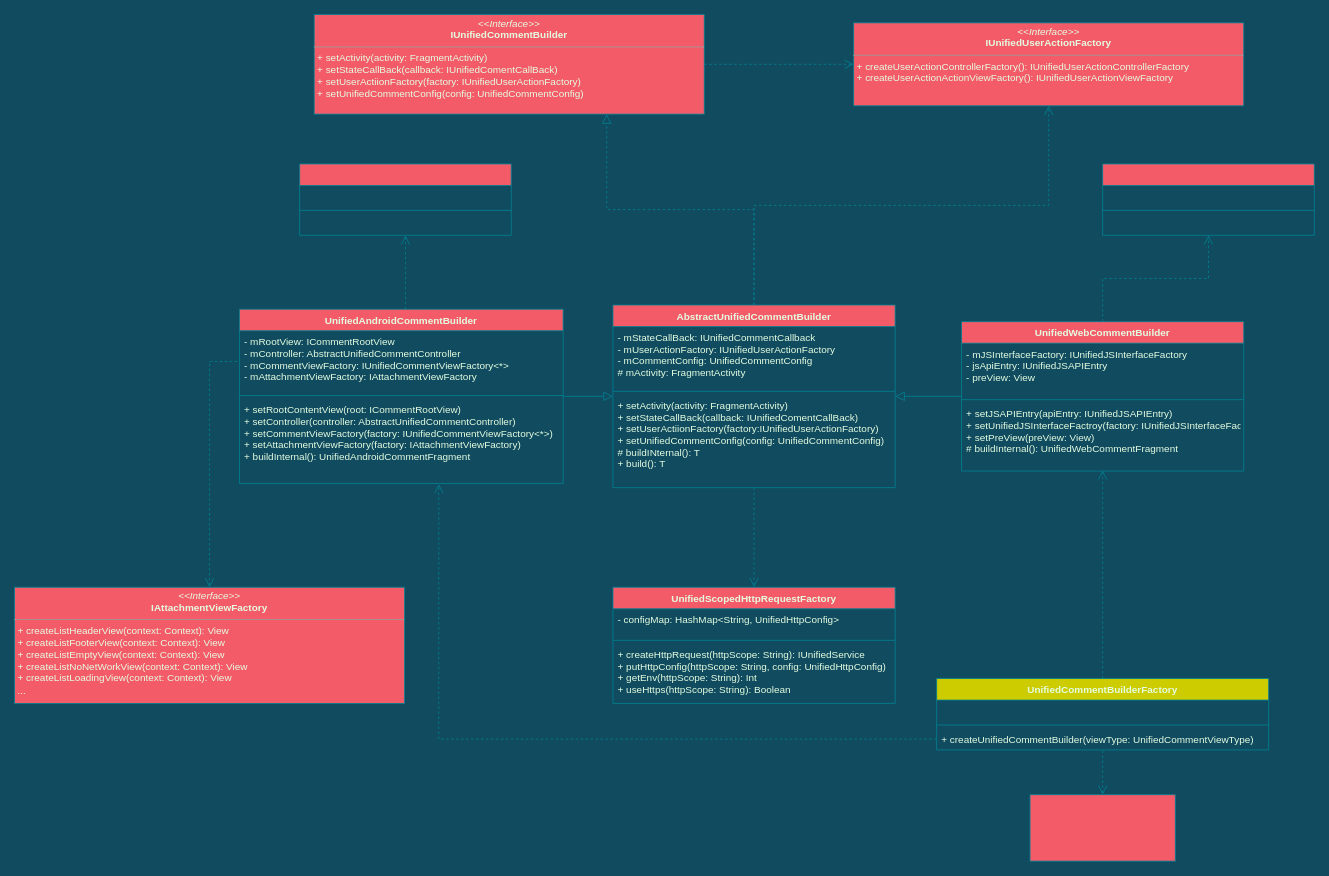
This 1329x876 diagram has some shape labels left out. The shapes that lost their labels are listed below. From the top down, each one's centre as x and y in pixels, then its label:
the point at 405,199: UnifiedAndroidCommentFragment
the point at 1208,199: UnifiedWebCommentFragment
the point at 1102,827: <<Enum>> UnifiedCommentViewType + TYPE_ANDROID + TYPE_WEB
